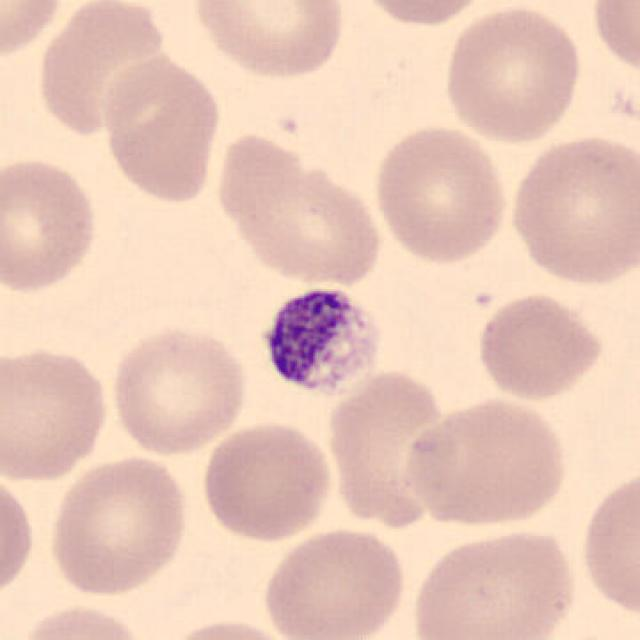Platelets: (254, 280, 386, 402)
RBC: (212, 129, 386, 289), (402, 391, 572, 531), (322, 363, 457, 531), (44, 452, 192, 600), (439, 2, 587, 146), (370, 120, 512, 268), (505, 131, 638, 289), (407, 523, 579, 640), (98, 49, 224, 208), (31, 0, 172, 139), (107, 322, 250, 458), (197, 418, 338, 545), (259, 523, 410, 640), (0, 340, 114, 485), (471, 289, 608, 402), (0, 152, 103, 296), (187, 0, 350, 83), (210, 127, 306, 236), (576, 462, 638, 624), (10, 599, 154, 640), (0, 467, 37, 606), (0, 0, 68, 65), (350, 0, 492, 30), (587, 0, 638, 81), (154, 613, 305, 640)
